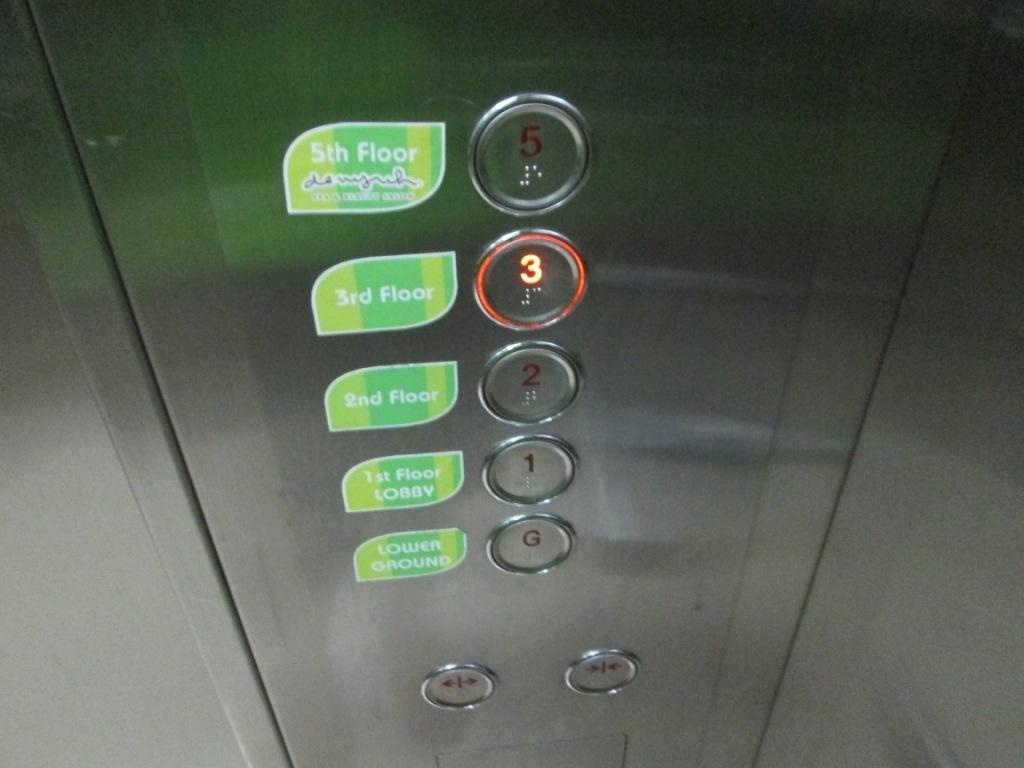1: (477, 430, 585, 507)
2: (472, 337, 591, 429)
3: (470, 221, 591, 336)
5: (468, 91, 595, 218)
G: (482, 508, 581, 578)
close: (560, 644, 646, 702)
open: (417, 658, 507, 715)
